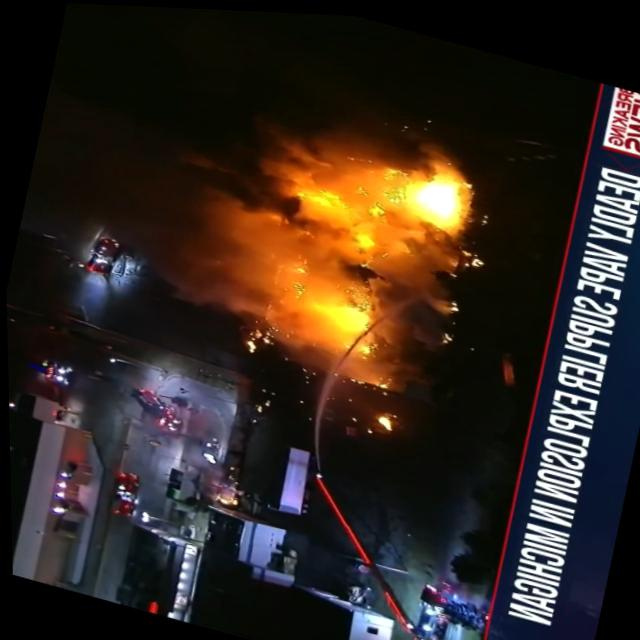fire: (84, 21, 512, 458)
